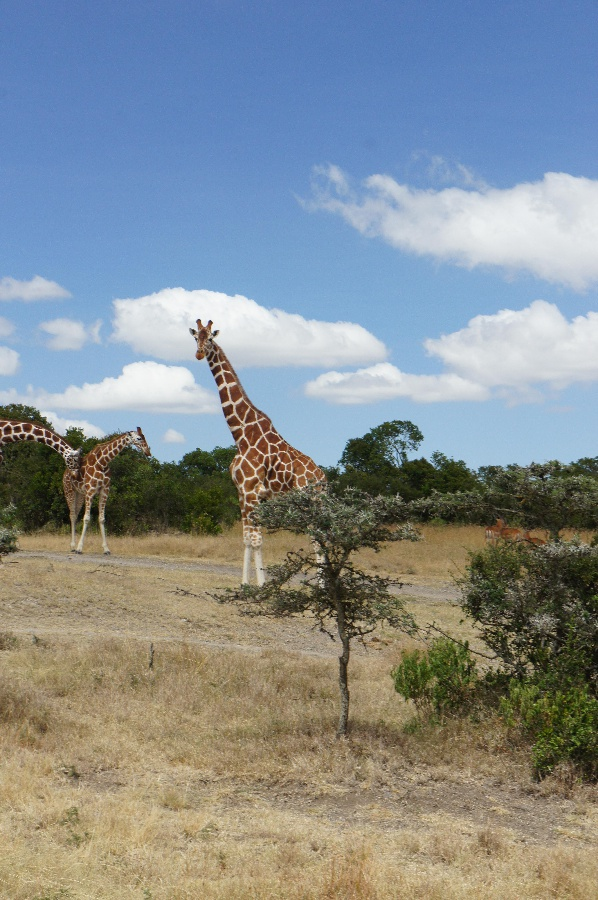giraffe: (185, 319, 333, 505), (57, 422, 153, 550), (0, 408, 90, 486)
